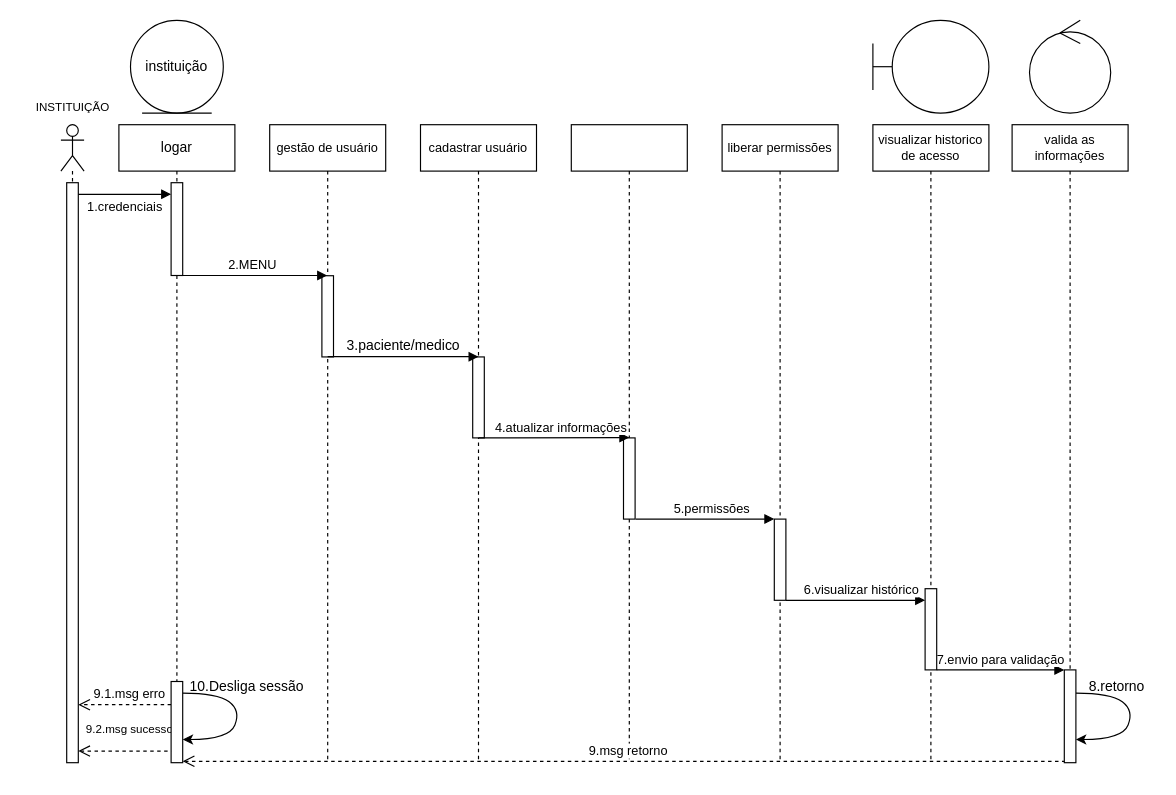
Some shapes in this 1176 by 795 pixel diagram are drawn without their labels. Here are the shapes that lost their labels. From the top down, the centre of each, then its label:
[930,66]: tela de interface
[1069,66]: gestor de controle
[628,443]: atualizar inform. usuario
